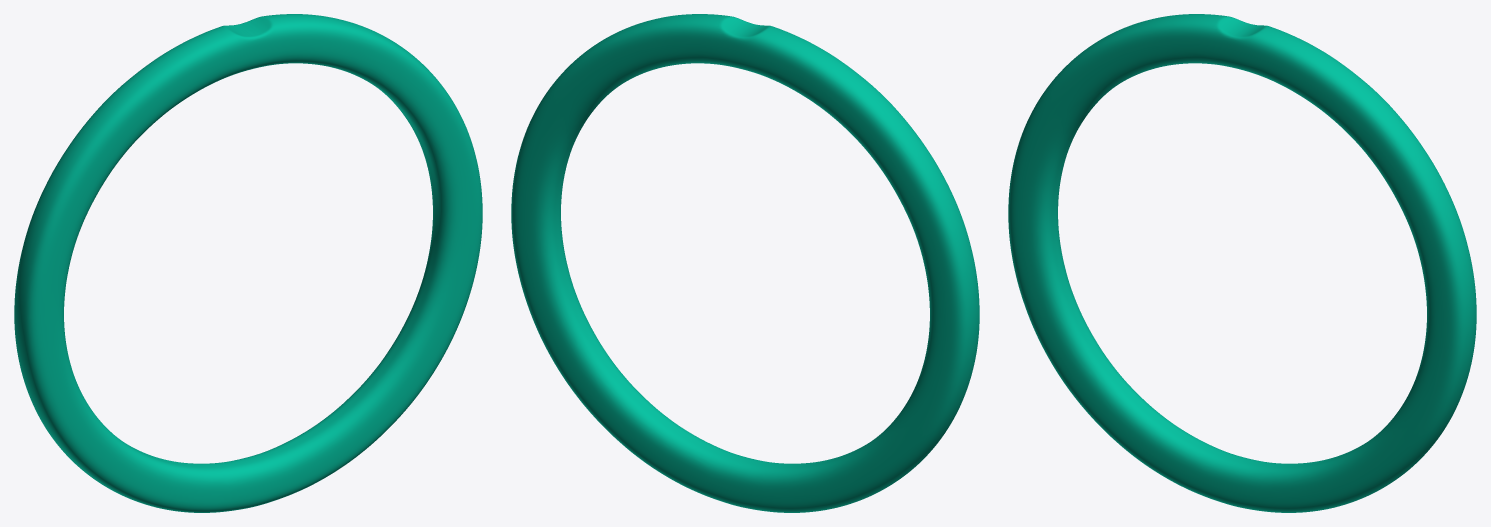
Rendered from Metal_Ring.glb.
The picture shows the model from 3 angles, left to right: view 1: azimuth 30°, elevation 25°; view 2: azimuth 150°, elevation 25°; view 3: azimuth 330°, elevation 25°; orthographic projection.
Parts seen in each view (by area): view 1: Metal 01; view 2: Metal 01; view 3: Metal 01.
Part boxes in pixels (left/top/right/bottom): Metal 01: left=14, top=14, right=482, bottom=512; Metal 01: left=511, top=14, right=979, bottom=512; Metal 01: left=1008, top=14, right=1476, bottom=512.
Size of the model in its own units: 20.09 by 20.05 by 1.51.
